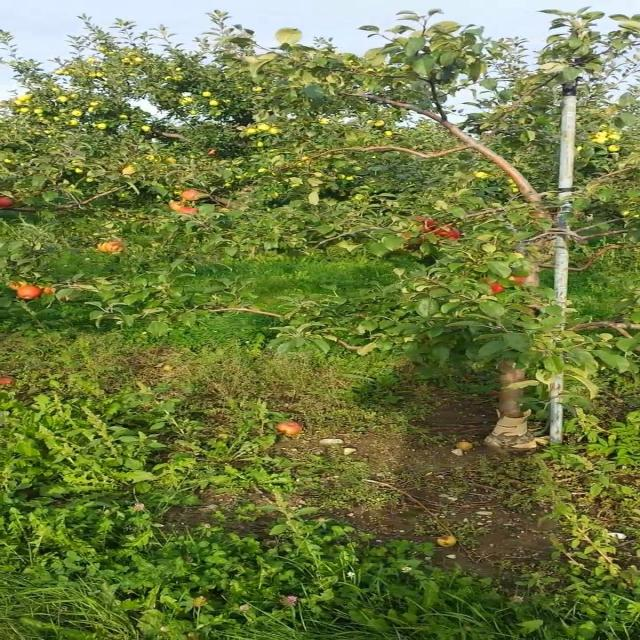apple: (412, 216, 439, 232), (433, 228, 462, 240), (404, 232, 425, 247), (20, 288, 43, 300), (99, 244, 124, 253), (490, 284, 505, 296), (6, 284, 27, 290), (184, 192, 199, 200), (42, 288, 57, 296), (511, 276, 526, 284), (184, 208, 199, 215), (170, 204, 183, 212), (1, 200, 14, 208), (127, 168, 135, 175)
